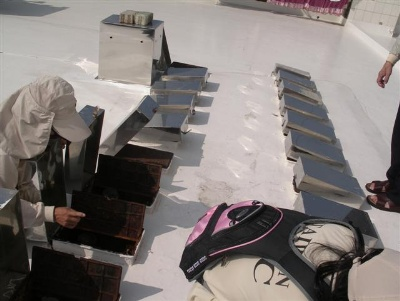box: (293, 157, 367, 208), (284, 132, 346, 174), (281, 111, 336, 143), (131, 113, 188, 142), (280, 95, 328, 119), (279, 80, 327, 104), (150, 80, 202, 100), (162, 66, 208, 87)
